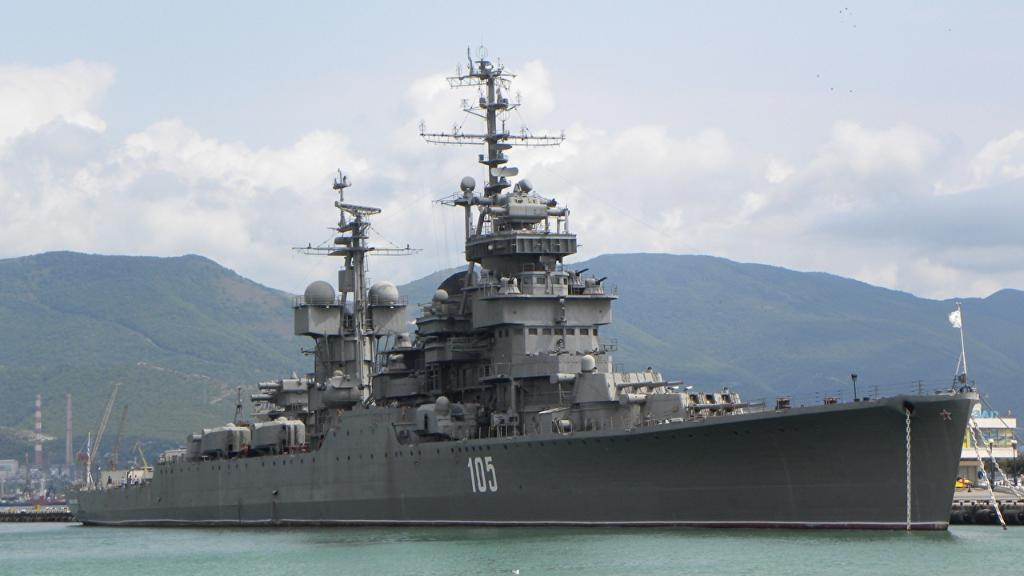Warship: (68, 36, 970, 536)
